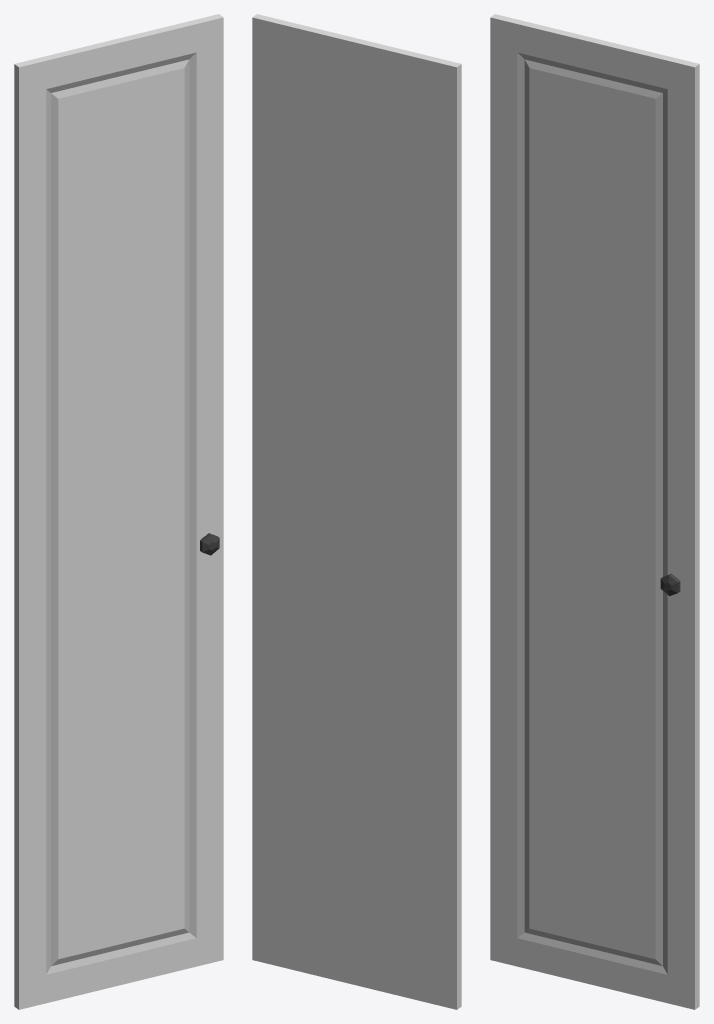
File: Wardrobe4_C1_03.fbx
3 views of the same model, side by side, from view 1: azimuth 30°, elevation 25°; view 2: azimuth 150°, elevation 25°; view 3: azimuth 330°, elevation 25° (orthographic).
Visible parts, largest first — view 1: Wardrobe4_C1_03; view 2: Wardrobe4_C1_03; view 3: Wardrobe4_C1_03.
Part boxes in pixels (x1,y1,x2,y2): Wardrobe4_C1_03: [14, 14, 223, 1009]; Wardrobe4_C1_03: [252, 14, 461, 1009]; Wardrobe4_C1_03: [490, 14, 699, 1009].
Size of the model in its own units: 50 by 220 by 5.33.
